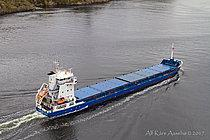Ship: (34, 42, 189, 120)
